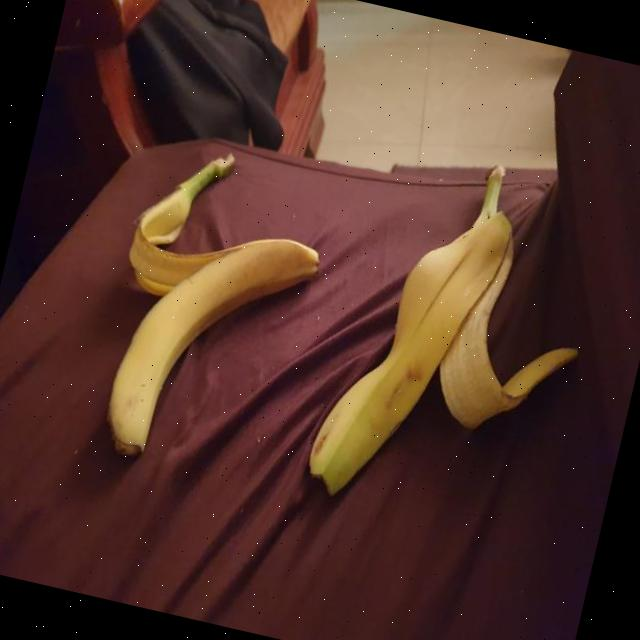banana-peel: (299, 134, 614, 542), (95, 206, 324, 488)
